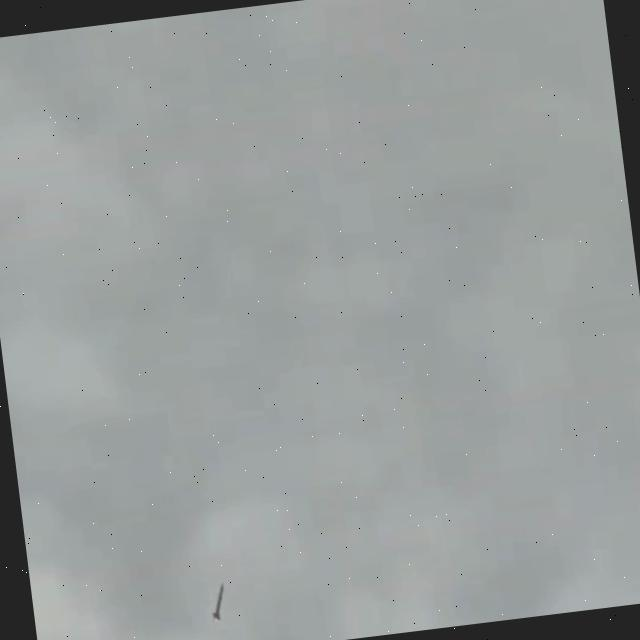rocket: (209, 584, 224, 620)
